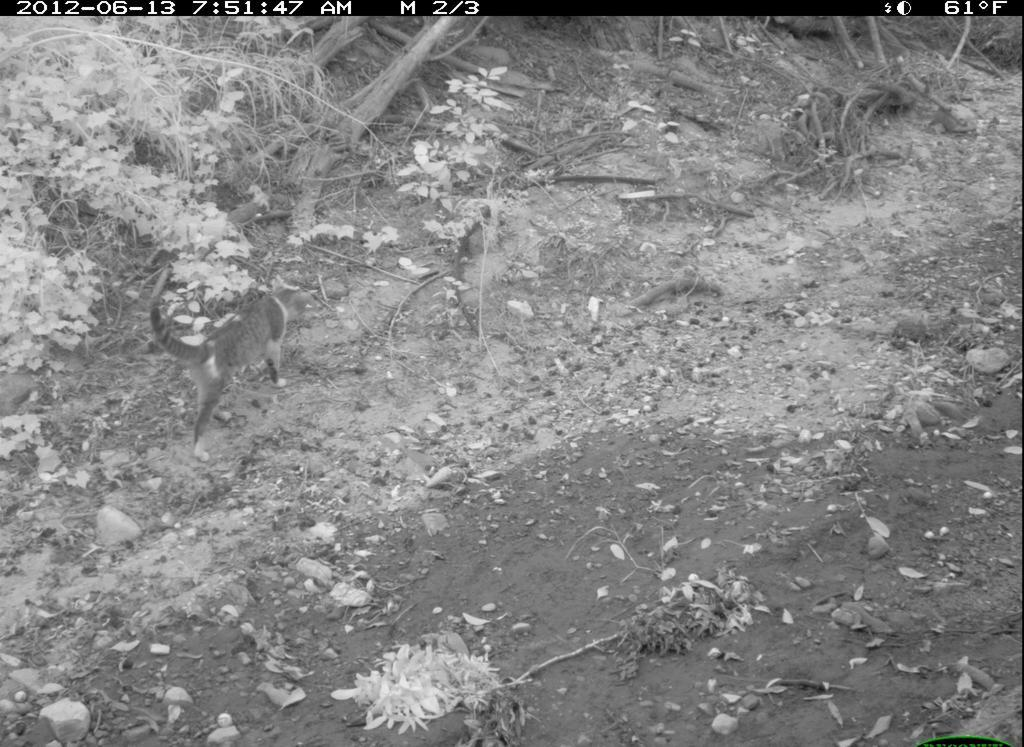cat: (149, 262, 314, 463)
